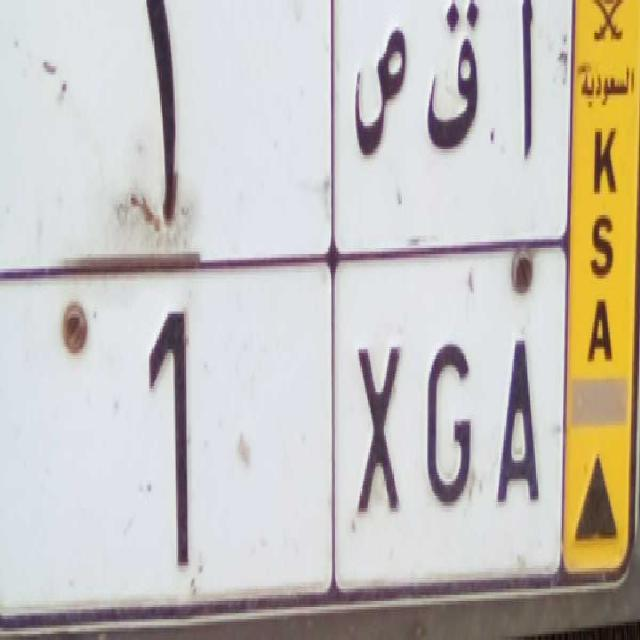license_plate: (4, 234, 567, 640)
